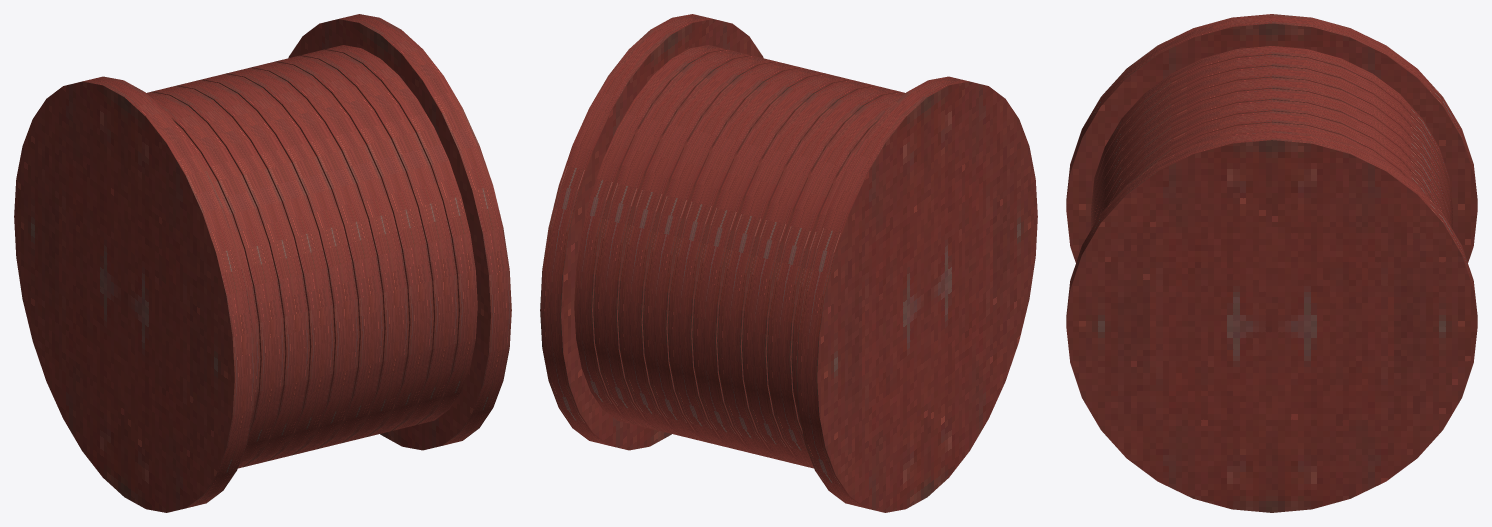
Rendered from winder.glb.
The picture shows the model from 3 angles, left to right: view 1: azimuth 30°, elevation 25°; view 2: azimuth 150°, elevation 25°; view 3: azimuth 270°, elevation 25°; orthographic projection. The views are drawn at different scales.
Visible parts, largest first — view 1: cheek (×2), wrap (×10); view 2: cheek (×2), wrap (×10); view 3: cheek (×2), wrap (×8).
Boxes of the visible parts, <box> form: cheek (×2): <box>14,14,511,512</box>; wrap (×10): <box>146,45,477,468</box>; cheek (×2): <box>540,14,1037,512</box>; wrap (×10): <box>574,45,905,468</box>; cheek (×2): <box>1066,14,1477,512</box>; wrap (×8): <box>1091,46,1452,229</box>.
Size of the model in its own units: 0.5074 by 0.7 by 0.7.
1 material, 1 textured.
